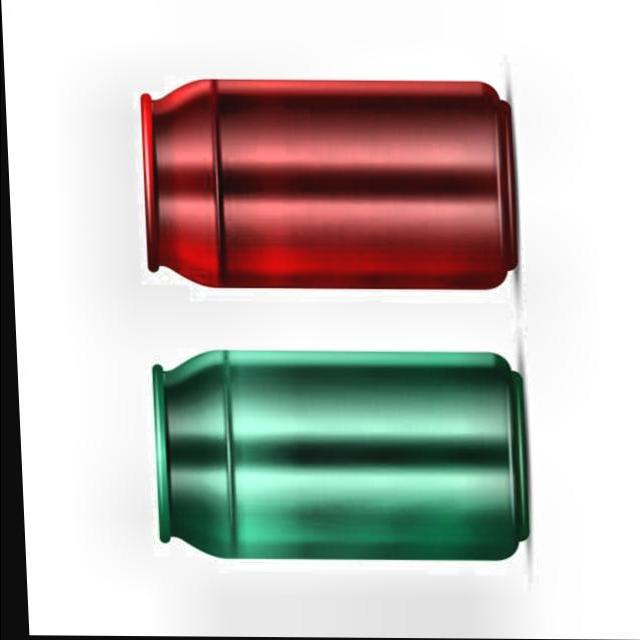Aluminum Can: (127, 68, 520, 301), (139, 347, 531, 574)
